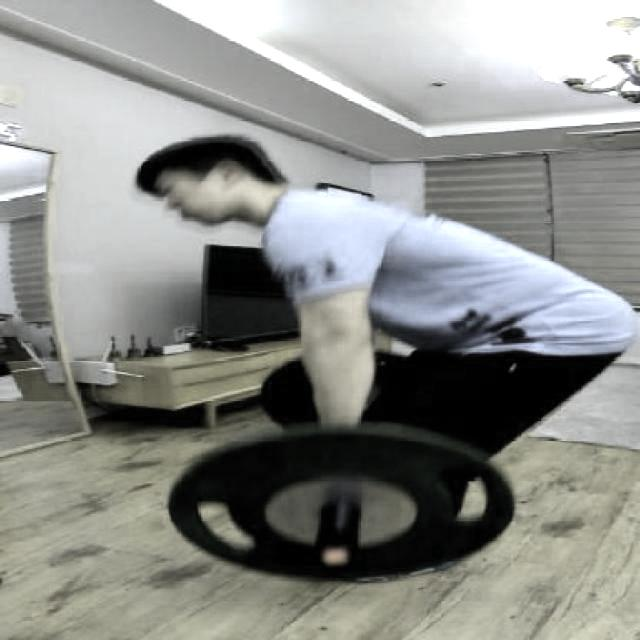barbell: (153, 417, 534, 592)
